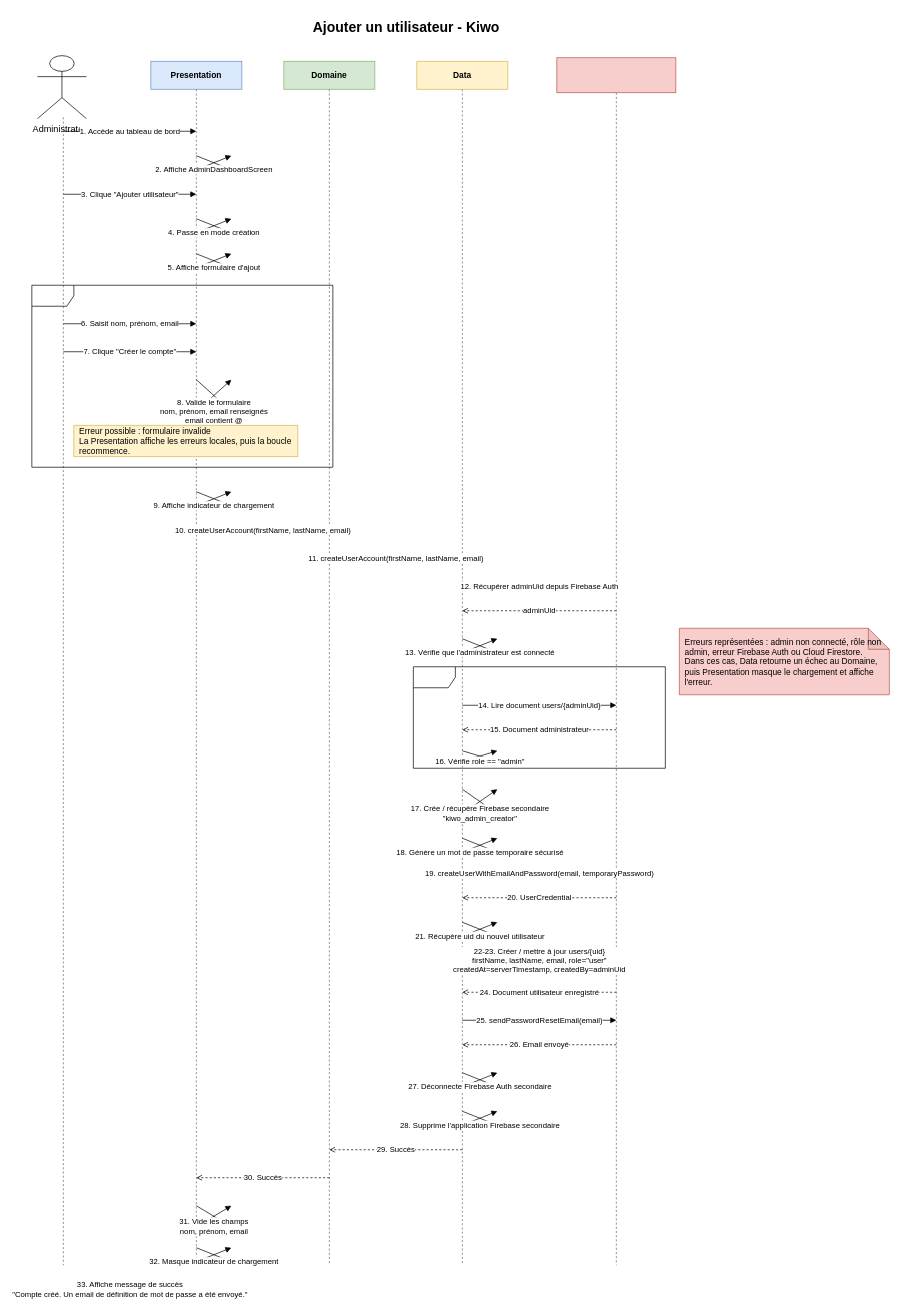
The diagram is 902 pixels wide and 1310 high, and some of its shapes have lost their labels. The box of each missing label's shape, as (x1, y1, x2, y2) in pixels:
loop Tant que les champs ne sont pas valides: (31, 285, 333, 467)
opt Vérification du rôle administrateur: (413, 666, 665, 768)
Service externe Firebase Auth + Cloud Firestore: (556, 57, 676, 93)
